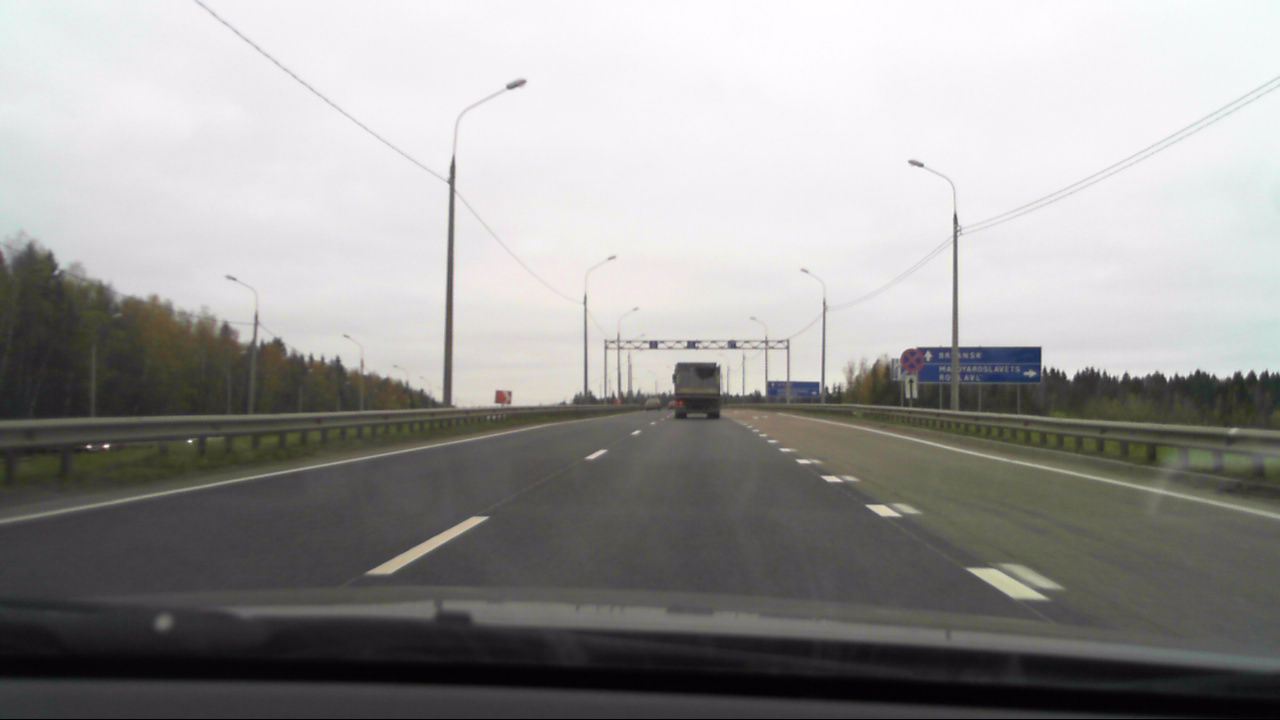No Parking: (901, 347, 923, 370)
